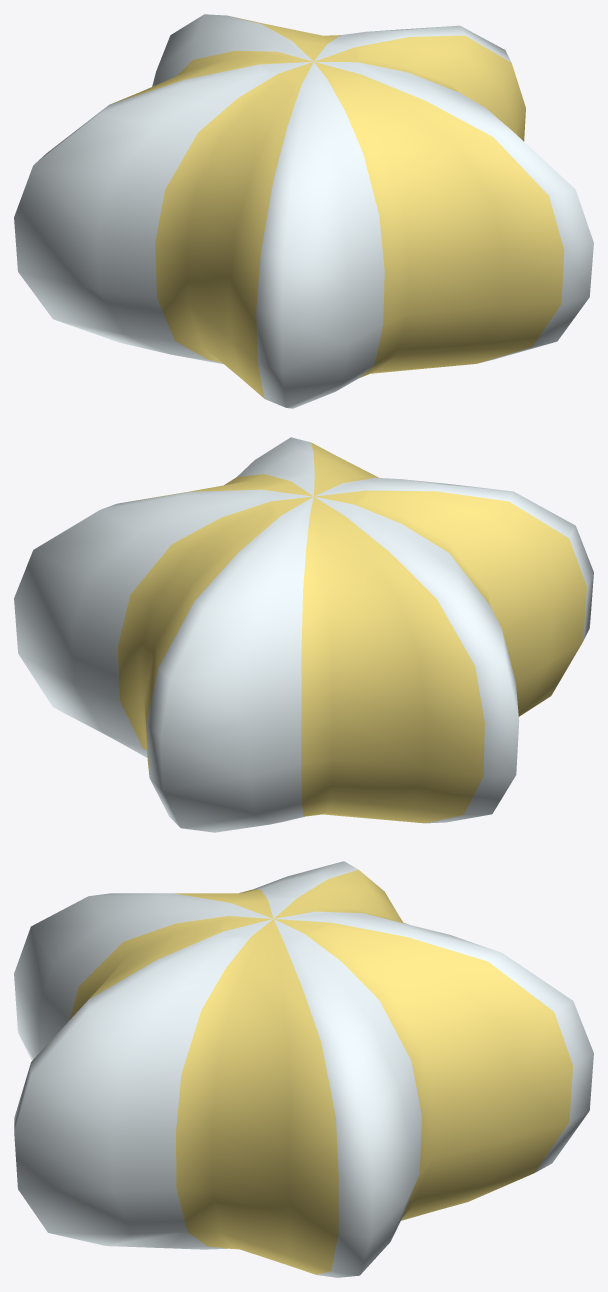
Rendered from candy_assets19.fbx.
3 renders of one model, top to bottom at view 1: azimuth 30°, elevation 25°; view 2: azimuth 150°, elevation 25°; view 3: azimuth 270°, elevation 25°, orthographic. The views are drawn at different scales.
Parts seen in each view (by area): view 1: candy_assets19; view 2: candy_assets19; view 3: candy_assets19.
Boxes of the visible parts, x1,y1,x2,y2 form: candy_assets19: [14, 14, 593, 408]; candy_assets19: [14, 437, 593, 832]; candy_assets19: [14, 861, 593, 1277].
Bounding box in the file's own units: 444 × 246 × 423.
1 material, 1 textured.
